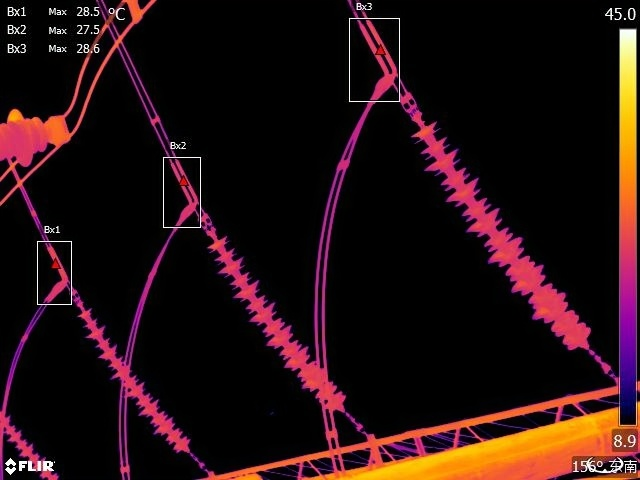clamp: (363, 58, 407, 106), (37, 264, 75, 305), (175, 185, 211, 224)
insulator: (416, 108, 606, 359), (203, 226, 354, 414), (72, 299, 199, 458), (1, 413, 64, 480)
